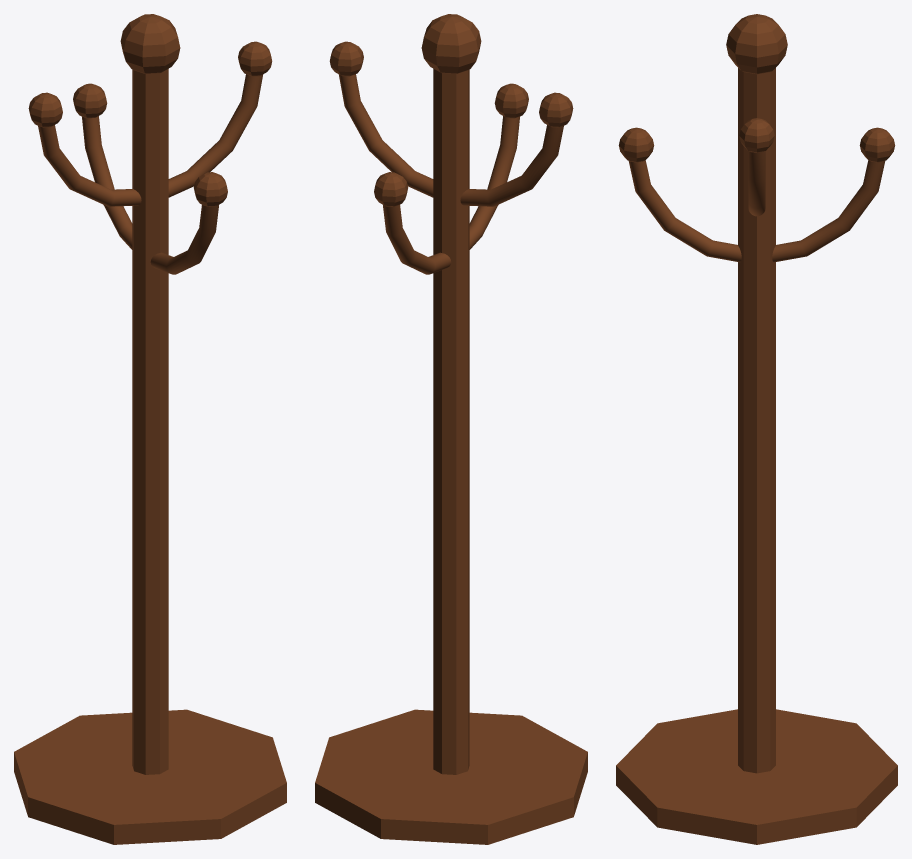
File: hat hanger 015.fbx
3 views of the same model, side by side, from view 1: azimuth 30°, elevation 25°; view 2: azimuth 150°, elevation 25°; view 3: azimuth 270°, elevation 25° (orthographic).
Visible parts, largest first — view 1: hat_hanger; view 2: hat_hanger; view 3: hat_hanger.
Boxes of the visible parts, x1=… form: hat_hanger: x1=14, y1=14, x2=286, y2=844; hat_hanger: x1=315, y1=14, x2=587, y2=844; hat_hanger: x1=616, y1=14, x2=897, y2=844.
Size of the model in its own units: 2.29 by 6.89 by 2.29.
